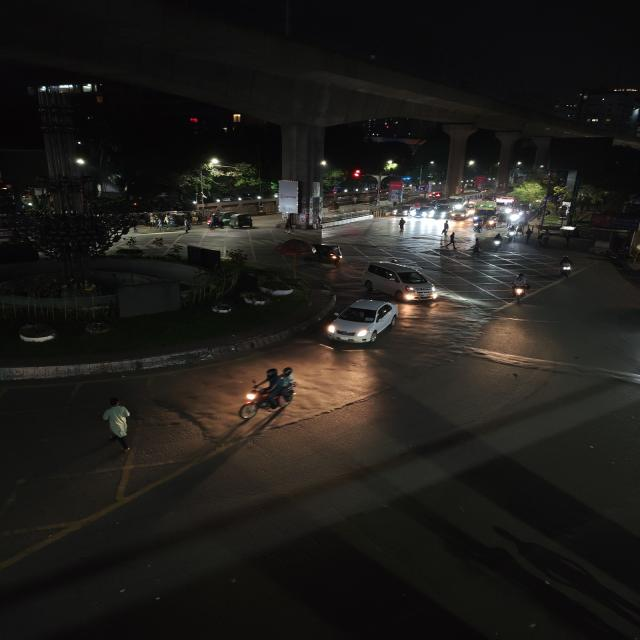bus: (473, 203, 497, 223)
car: (321, 297, 402, 349), (358, 258, 442, 304), (392, 206, 415, 218), (412, 206, 434, 217), (451, 208, 468, 221), (434, 208, 451, 220)
cng: (309, 242, 344, 268), (228, 212, 256, 230)
motorcycle: (233, 364, 302, 424), (506, 273, 534, 301), (554, 256, 576, 278), (490, 234, 503, 252)
pedestrian: (99, 395, 139, 455), (466, 240, 481, 258), (446, 230, 458, 250), (440, 221, 452, 239), (397, 216, 408, 234), (523, 227, 533, 243)
